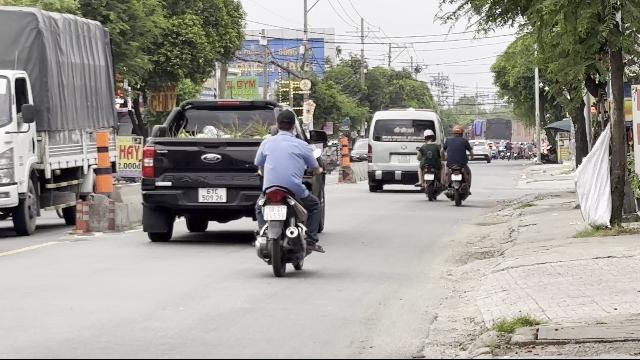licenseplate: (265, 204, 287, 220)
motorcyclist: (250, 106, 326, 274)
nohelmet: (273, 107, 297, 133)
